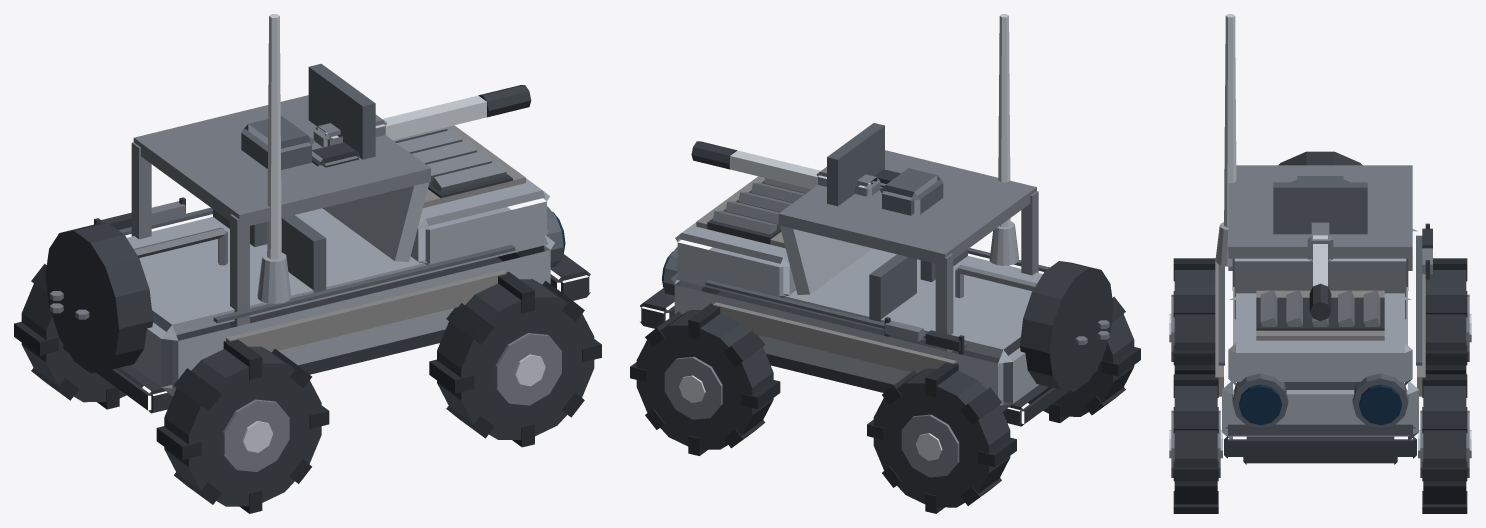
File: con_jeep.glb
The picture shows the model from 3 angles, left to right: view 1: azimuth 30°, elevation 25°; view 2: azimuth 150°, elevation 25°; view 3: azimuth 270°, elevation 25°; orthographic projection. The views are drawn at different scales.
Parts seen in each view (by area): view 1: body, turret; view 2: body, turret; view 3: body, turret.
Part boxes in pixels (box(x1,y1,x2,y2)): body: box(14, 14, 601, 513); turret: box(241, 63, 531, 169); body: box(630, 14, 1140, 513); turret: box(691, 123, 943, 215); body: box(1169, 14, 1471, 513); turret: box(1273, 176, 1367, 320).
Bounding box in the file's own units: 20.56 × 18.59 × 12.69.
